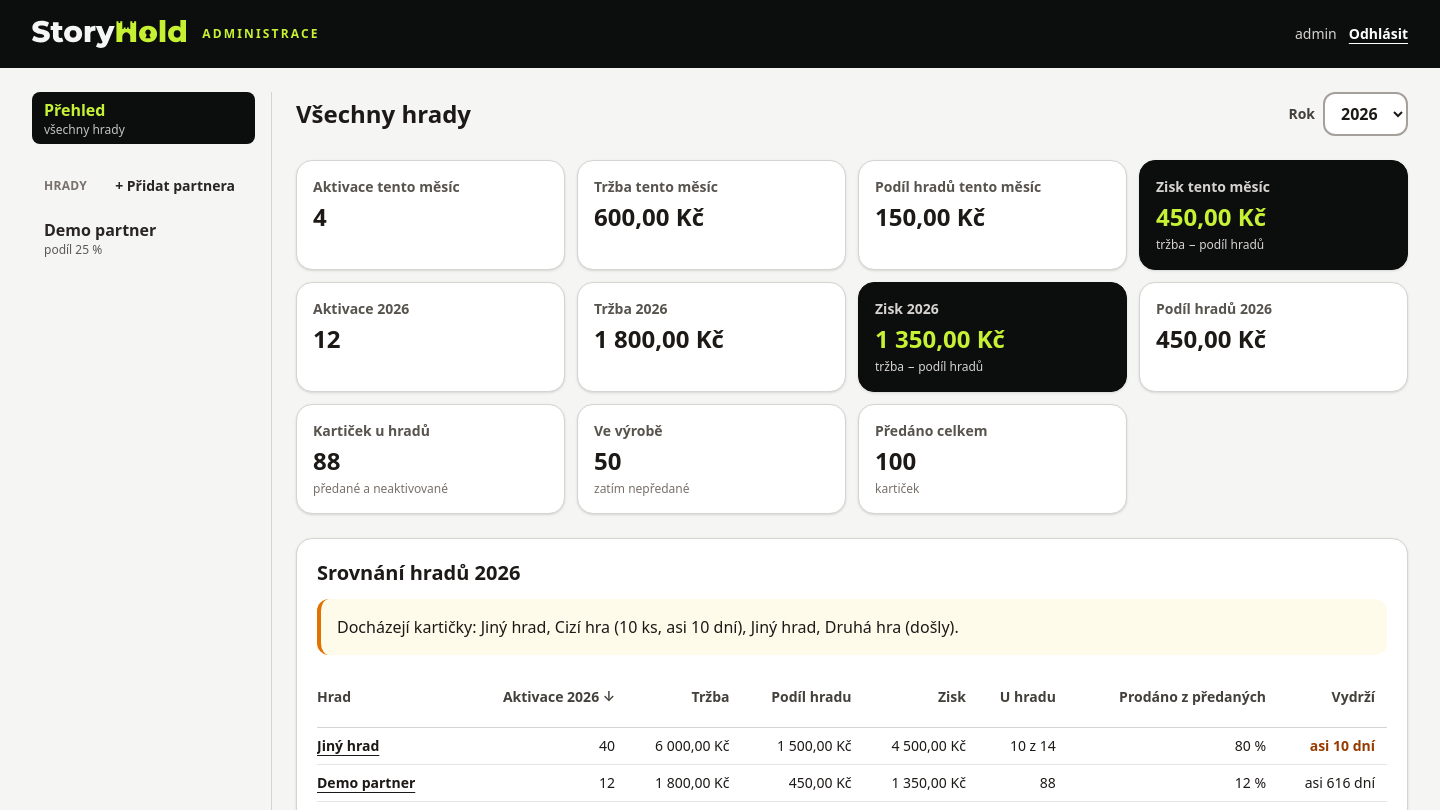
Test case: AdminPage — operator › shows the login form again after logout
The image size is (1440, 810).
What coordinates should you click on to do the following:
click the button "Odhlásit"
I would click on:
 (1378, 34)
Its box is [1349,12,1408,56].
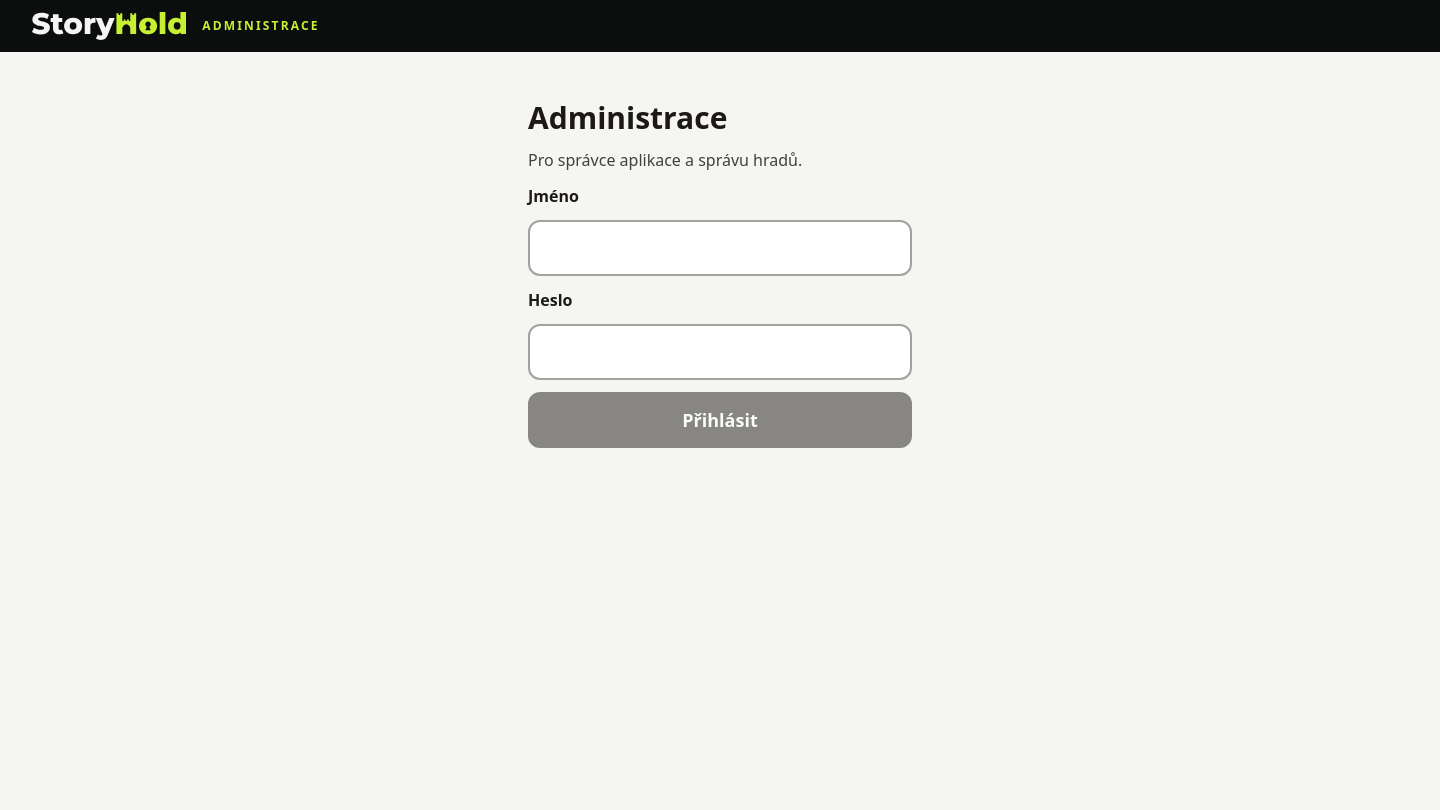
Now the button "Přihlásit" is shown, box [528,392,912,448]
Now the link "hrady" is gone
